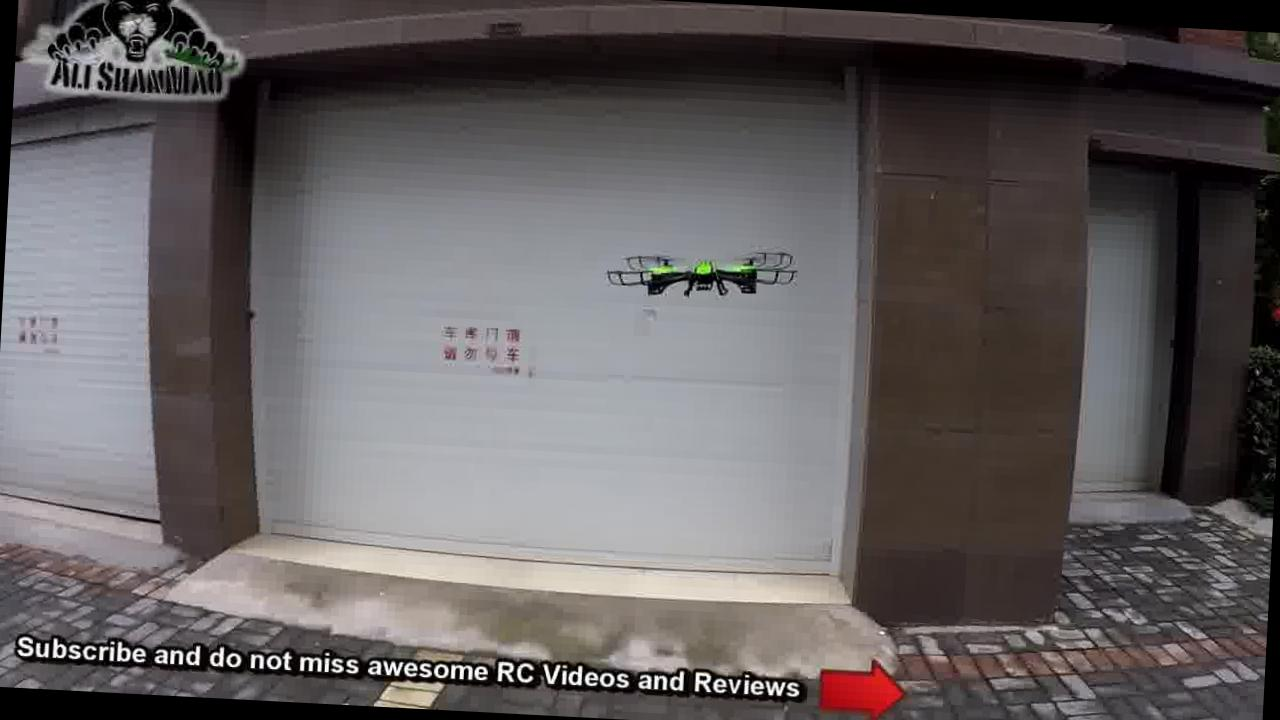drone: (594, 229, 800, 320)
